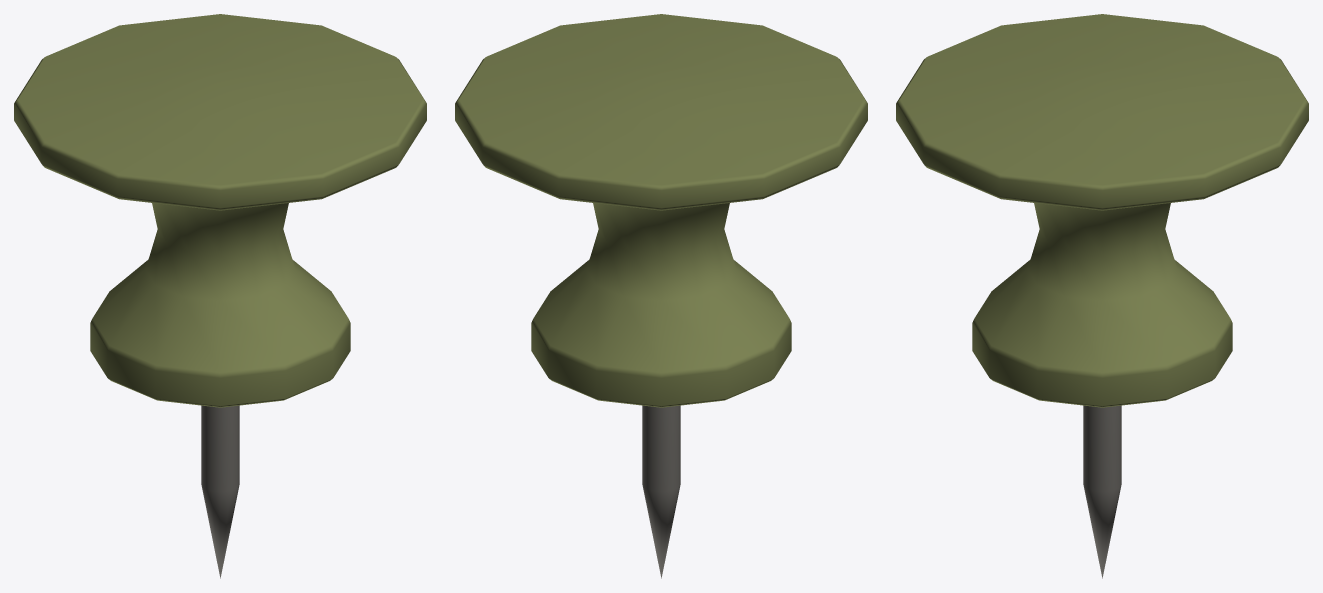
Rendered from Thumbtack_Green.fbx.
3 views of the same model, side by side, from view 1: azimuth 30°, elevation 25°; view 2: azimuth 150°, elevation 25°; view 3: azimuth 270°, elevation 25° (orthographic).
Visible parts, largest first — view 1: Thumbtack_Green; view 2: Thumbtack_Green; view 3: Thumbtack_Green.
Part boxes in pixels (x1,y1,x2,y2): Thumbtack_Green: [14, 14, 426, 578]; Thumbtack_Green: [455, 14, 867, 578]; Thumbtack_Green: [896, 14, 1308, 578].
Bounding box in the file's own units: 9.2 × 12.13 × 9.2.
